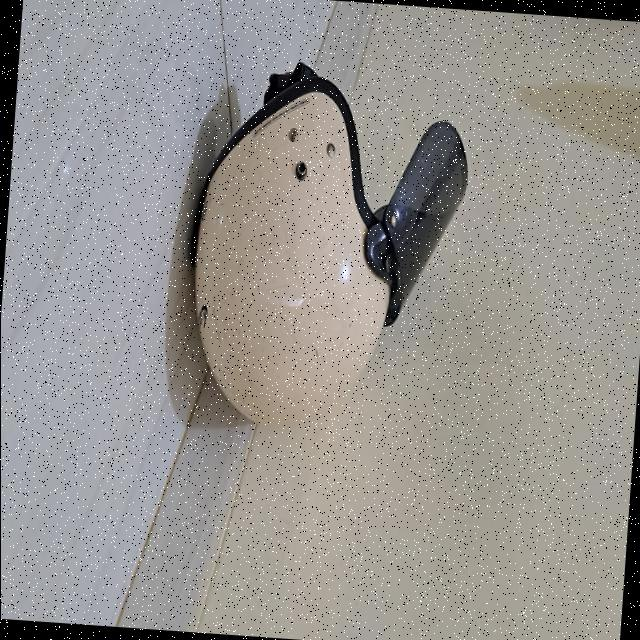Helm: (168, 57, 481, 455)
